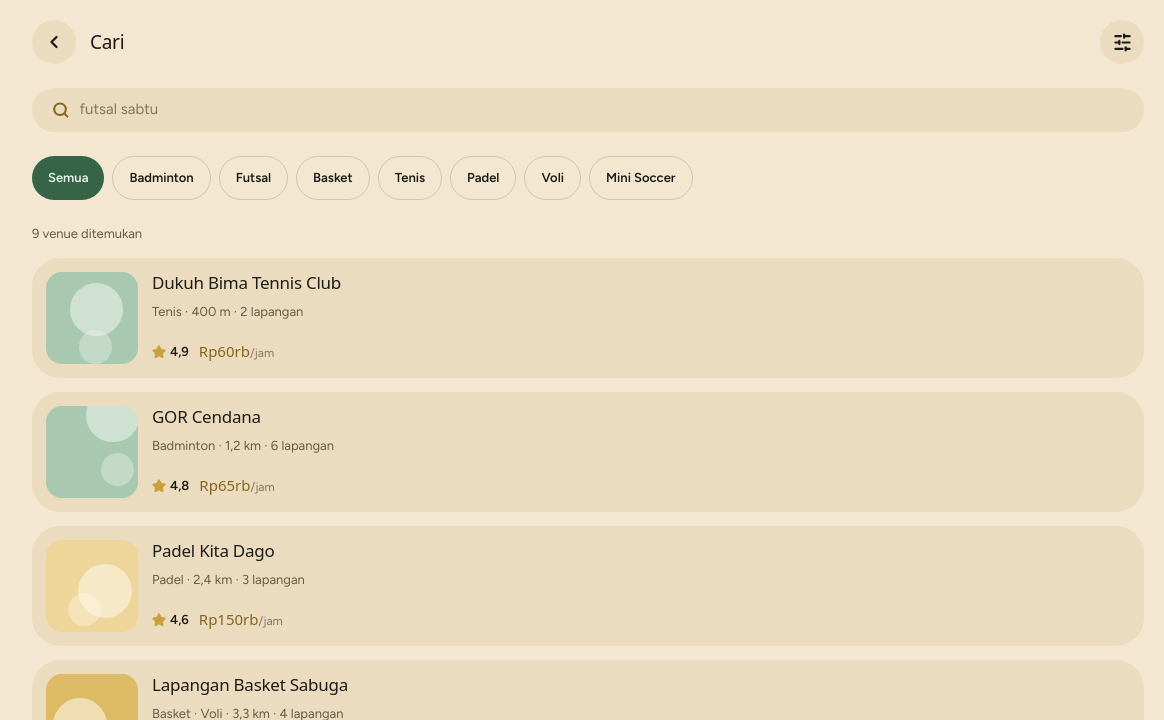
Test: SearchScreen — filter tersinkron dengan URL › menulis cabang olahraga ke search params
Step 1. Click the button "Futsal" → click(253, 178), box left=219, top=156, right=288, bottom=200
(page scrolled)
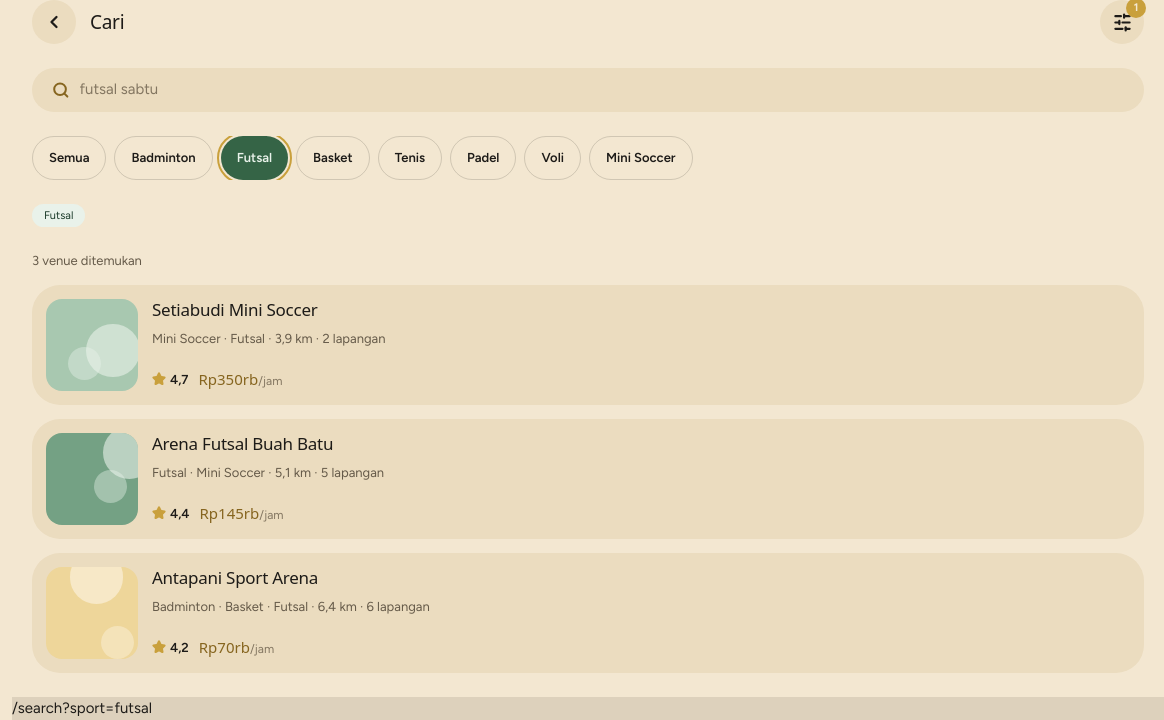
Expected: the text with test id "location" shows "sport=futsal", left=62, top=699, right=152, bottom=717
